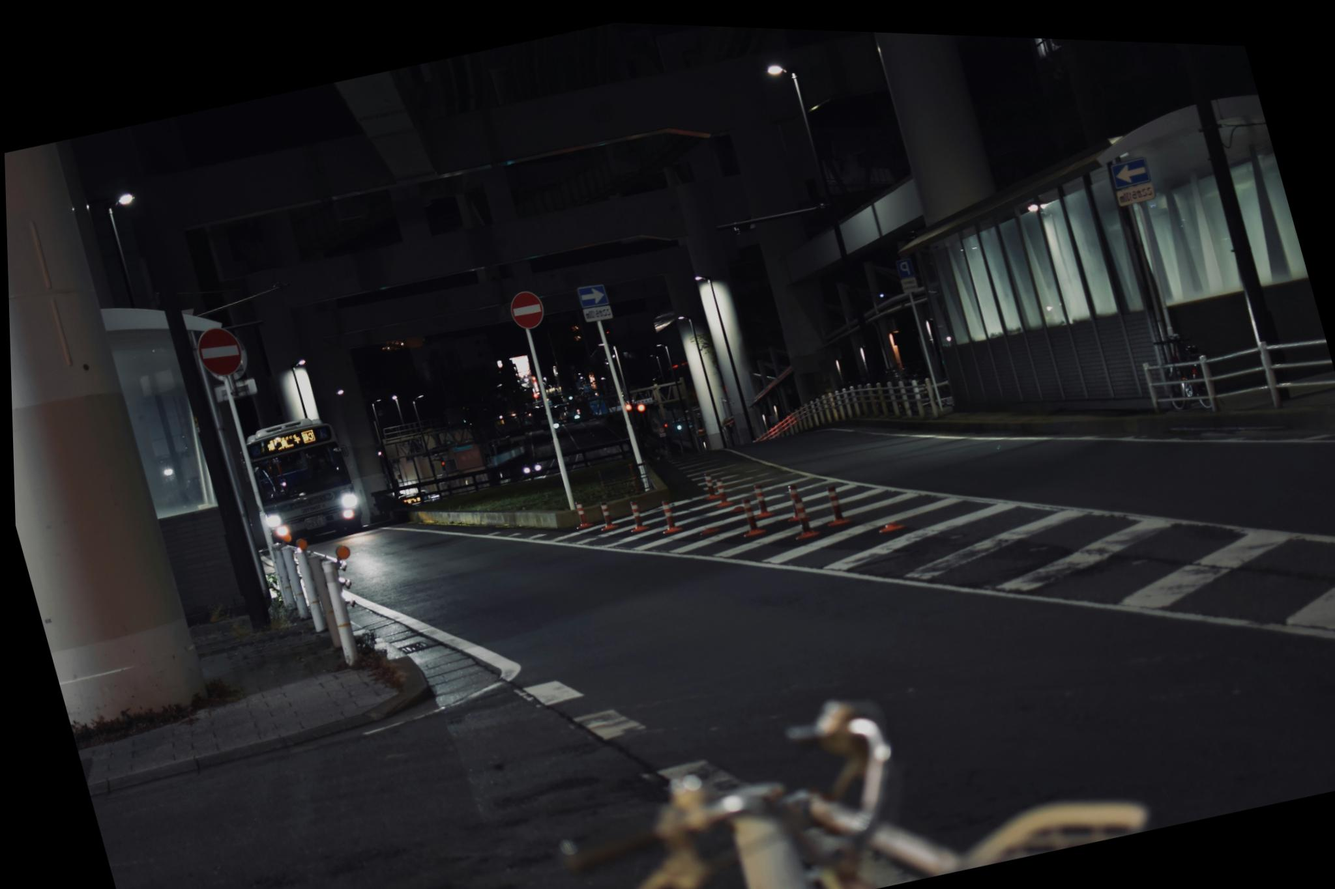barrier: (192, 321, 251, 387), (503, 282, 554, 334)
